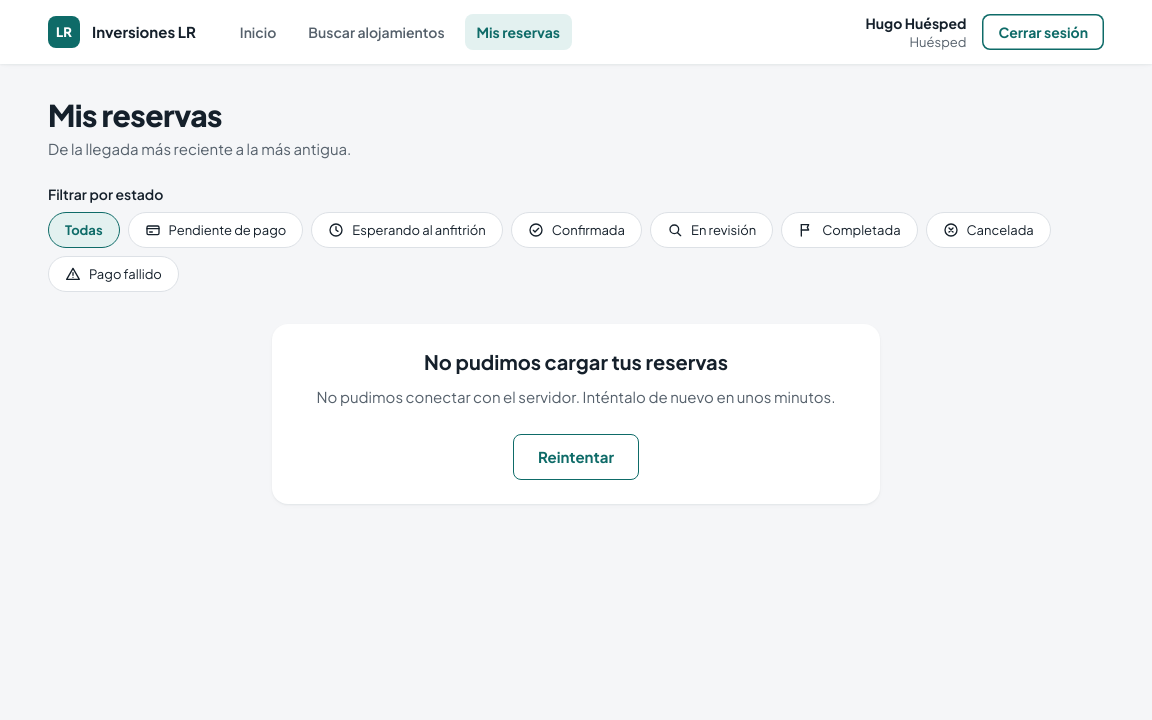
Test case: mis reservas › estados de la pantalla › si la consulta se rechaza muestra el error de conexión y permite reintentar
Expected: the heading "No pudimos cargar tus reservas" is shown, [424,349,728,374]
Expected: the message shows "No pudimos conectar con el servidor", [316,387,836,406]
Click the button "Reintentar": (576, 457) [513,434,639,480]
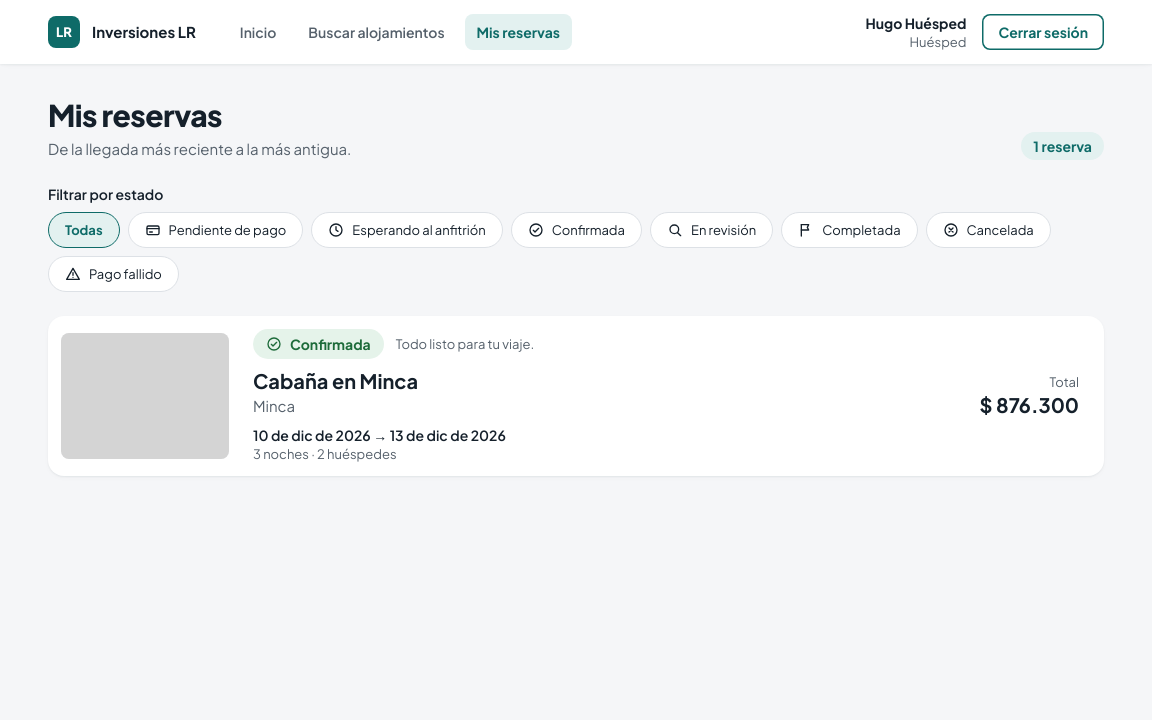
Expected: the link "Cabaña en Minca" is shown, [253,368,418,393]
